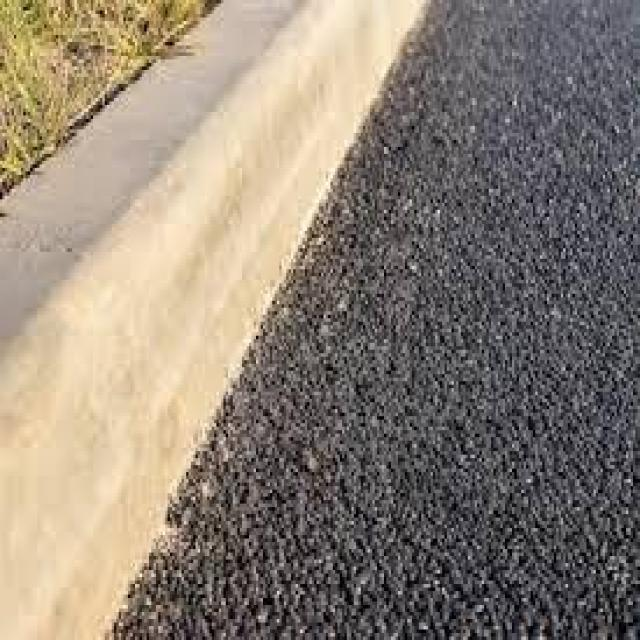curb: (1, 1, 425, 640)
